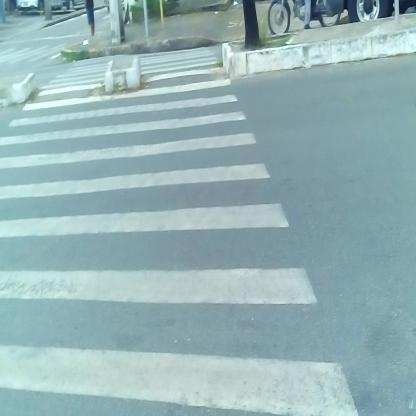crosswalk: (31, 65, 350, 399)
sidewalk: (66, 20, 257, 58)
